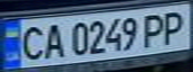0: (66, 19, 90, 56)
2: (87, 17, 109, 55)
4: (103, 15, 127, 53)
9: (118, 14, 142, 52)
A: (39, 20, 69, 60)
C: (12, 24, 48, 62)
P: (157, 8, 193, 46), (139, 11, 172, 47)
